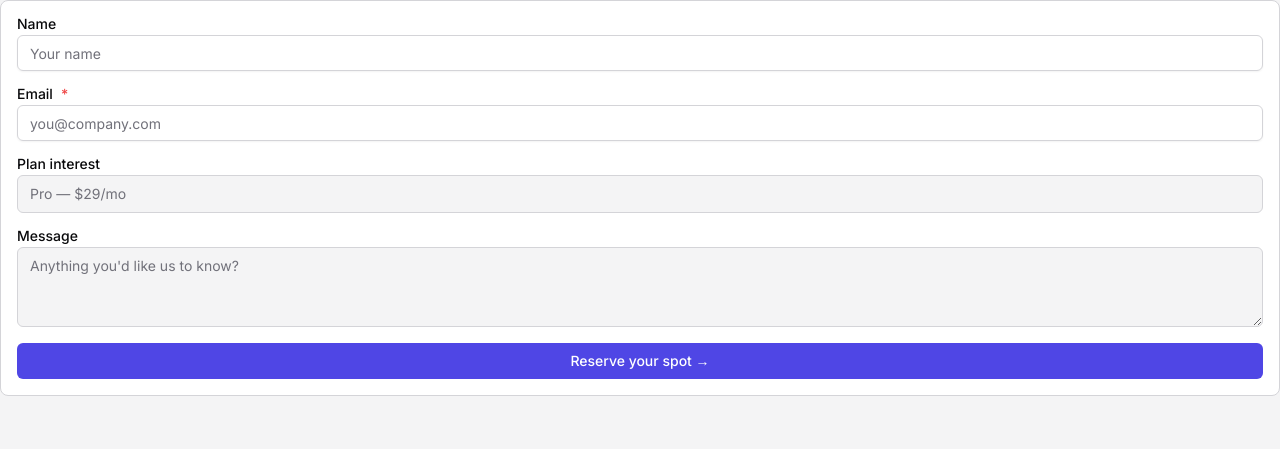
Test: WaitlistForm › shows a network error message when fetch rejects
Type "user@example.com" into the field labelled "Email *" at (640, 123), box [17,105,1263,141]
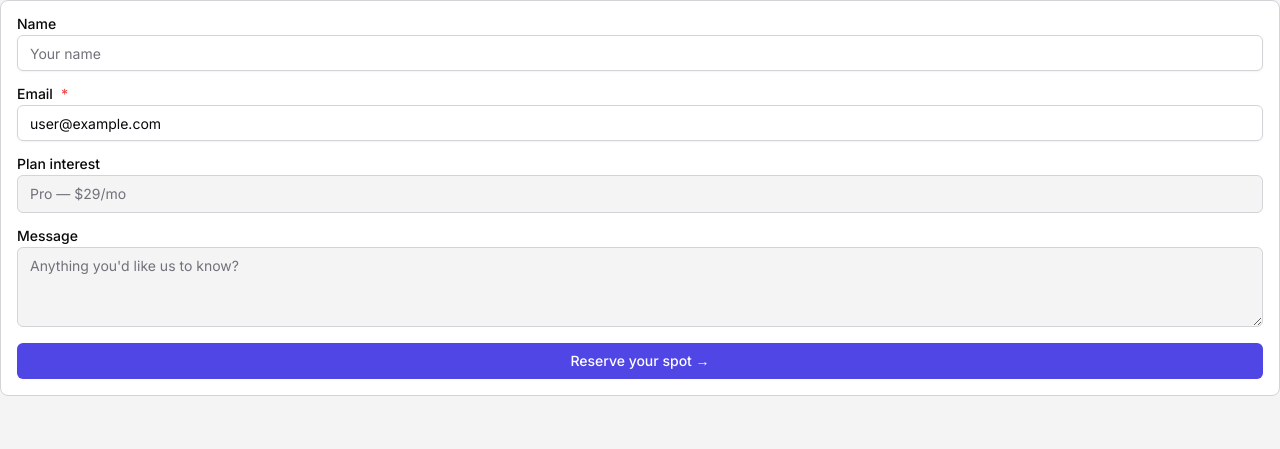
Submit the form "Reserve your spot"
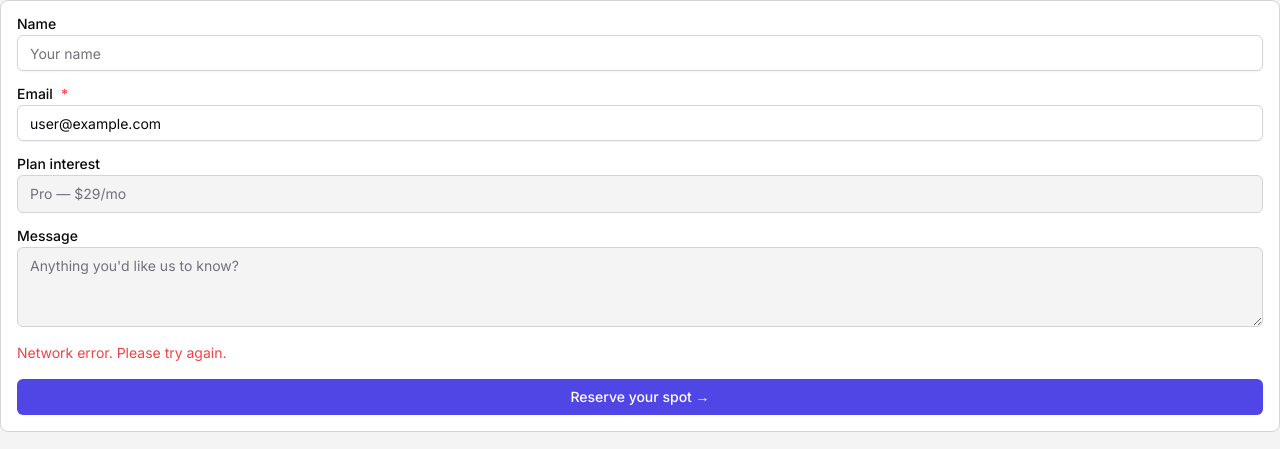
Check: the message shows "Network error", box [17,344,226,361]
